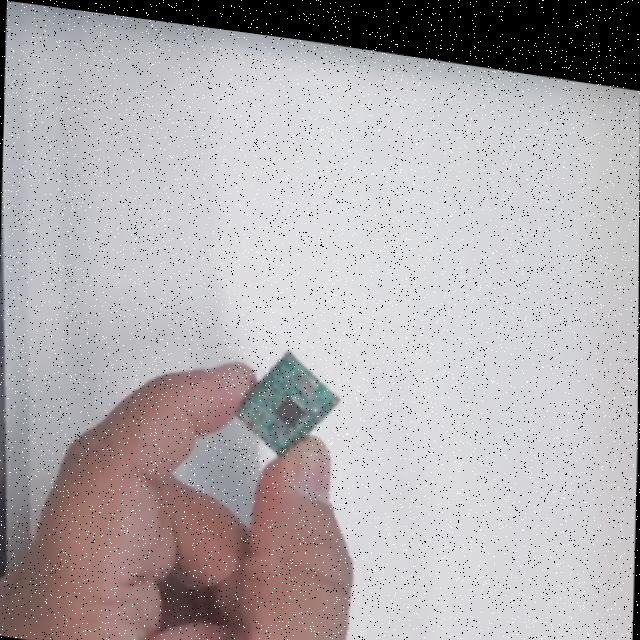Chip: (237, 339, 340, 470)
